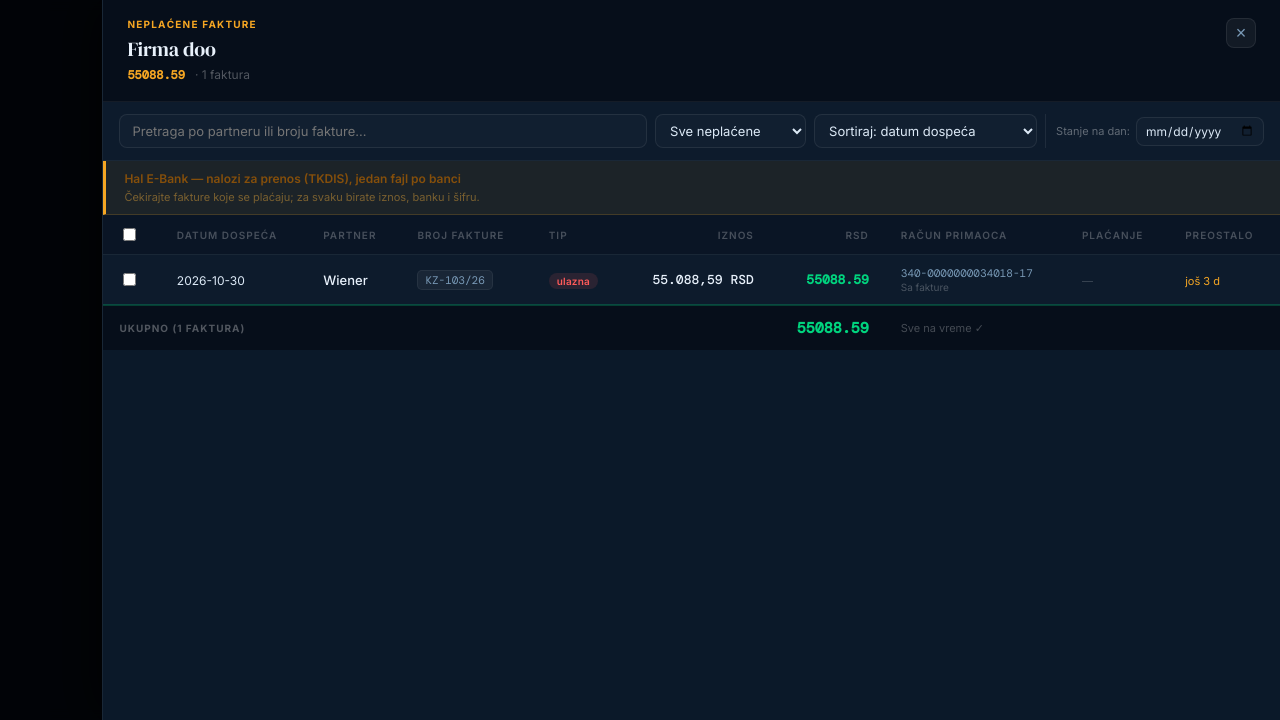
Test: credit and debit notes in the unpaid list › offers a debit note to pay by itself, at the account on it, and leaves its paid bill out
Expected: the text "Wiener" is shown, [323,272,368,288]
Click the checkbox named "Plati KZ-103/26": [130, 280] box [123,273,136,286]
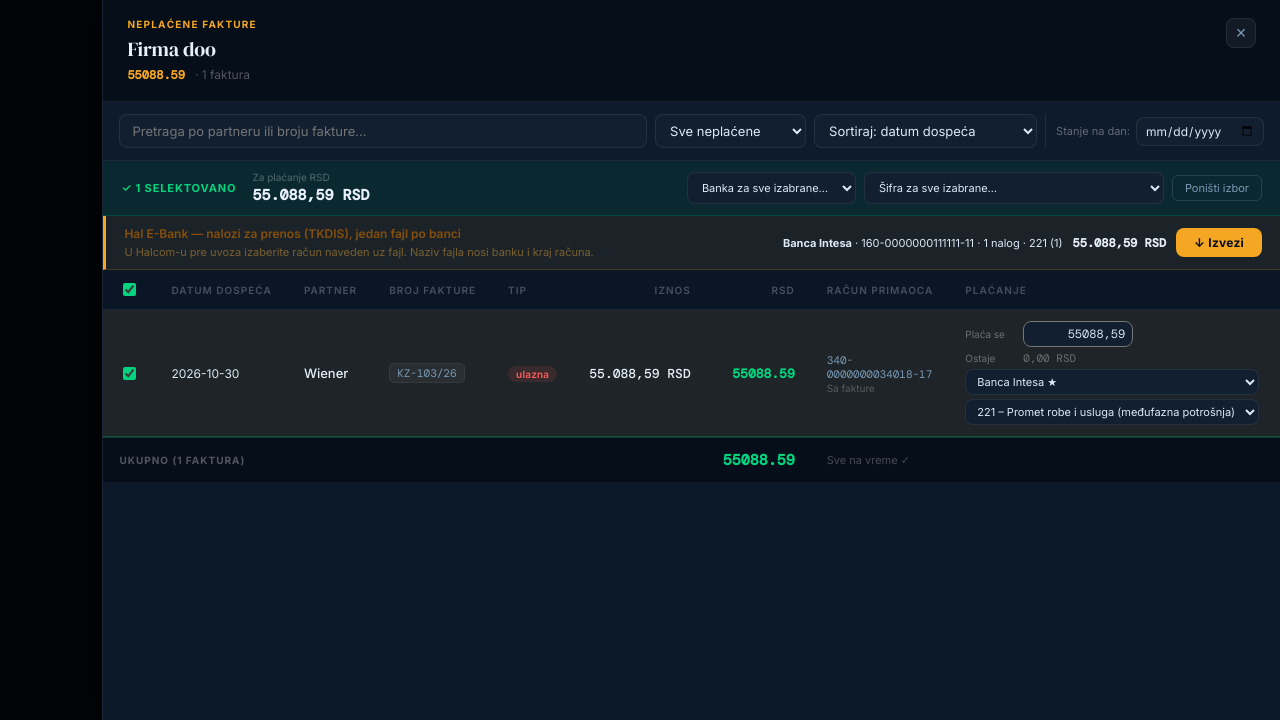
Expected: the text "340-0000000034018-17" is shown, [827,352,933,380]
Expected: the field named "Iznos za plaćanje KZ-103/26" holds "55088,59", [1023,321,1133,347]
